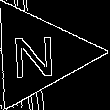N_N: (14, 28, 62, 80)
